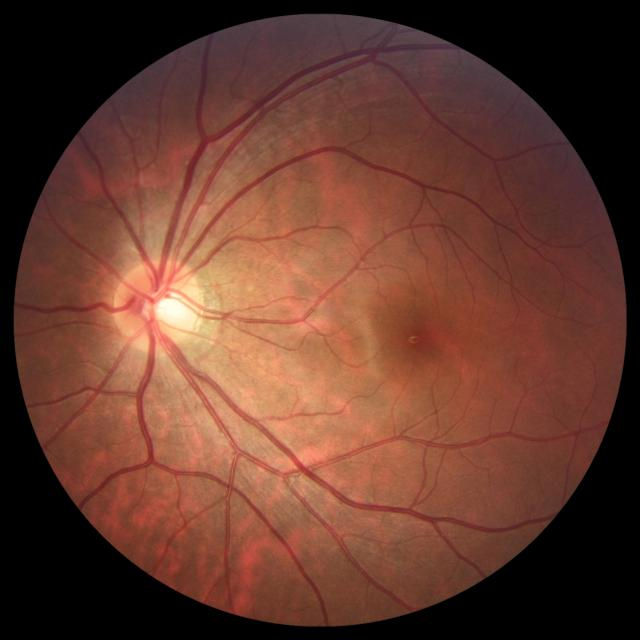OC: (147, 288, 186, 328)
OD: (114, 257, 202, 350)
